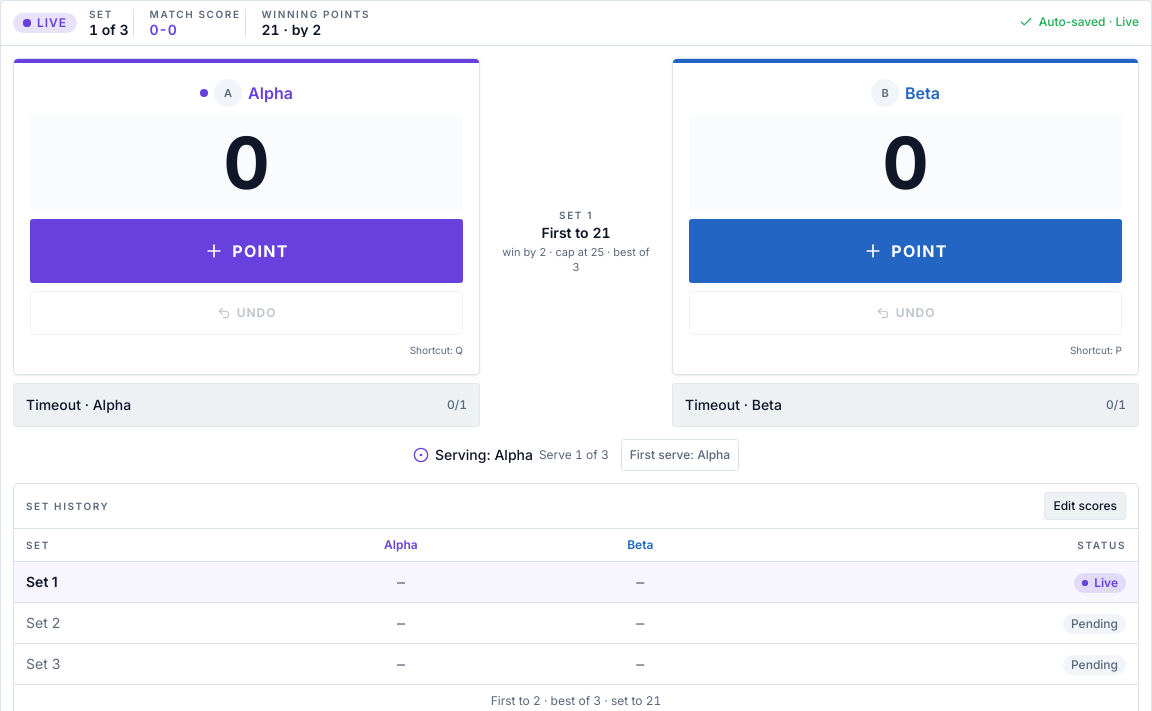
Test case: SepakConsole › point tap bumps the current set, saves progress, and a reason chip logs the annotation
Step 1. Click the button with test id "point-home" → x=246, y=251, box top-left (30, 219), bottom-right (463, 283)
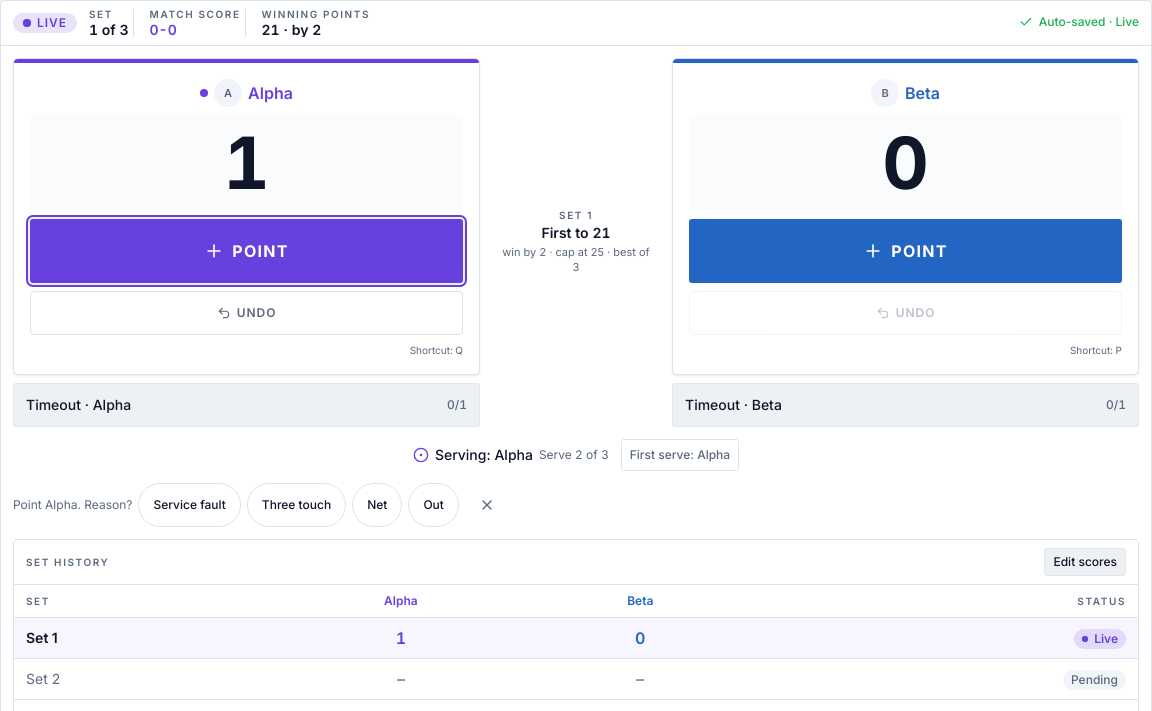
Expected: the text with test id "points-away" reads "0", top-left (882, 119), bottom-right (929, 206)
Now the text with test id "points-home" reads "1", box top-left (223, 119), bottom-right (270, 206)
Step 2. Click the button with test id "reason-net" → x=377, y=505, box top-left (352, 483), bottom-right (402, 527)
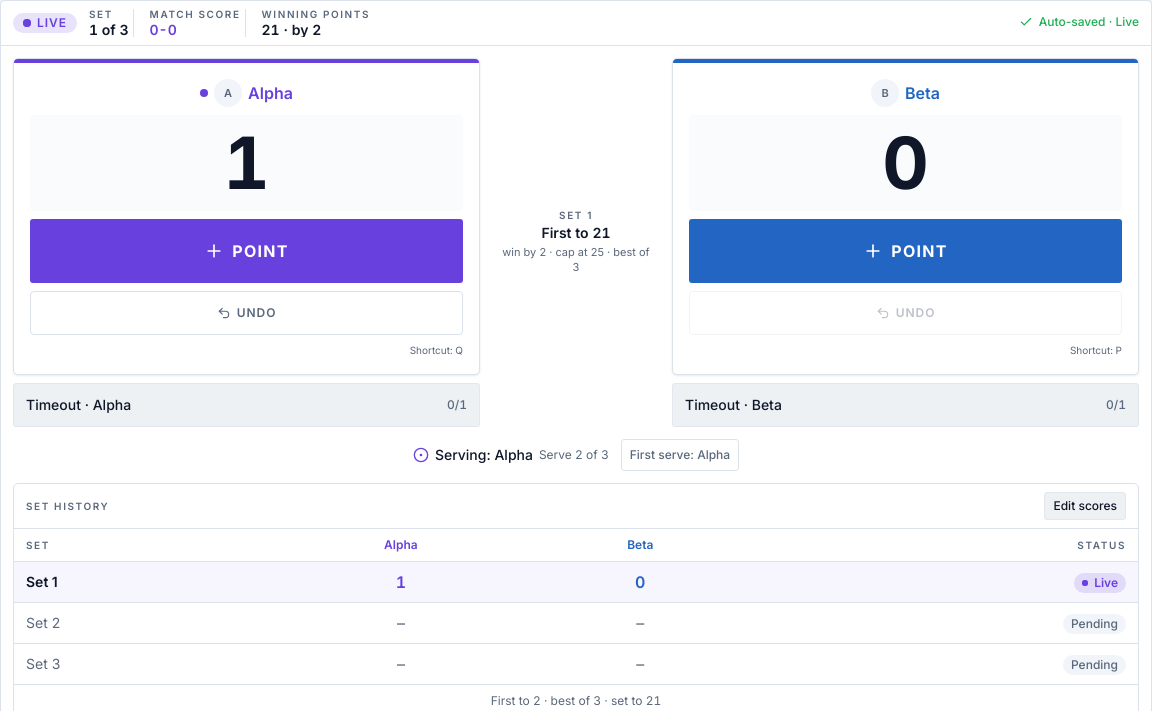
Now the button with test id "reason-net" is gone
